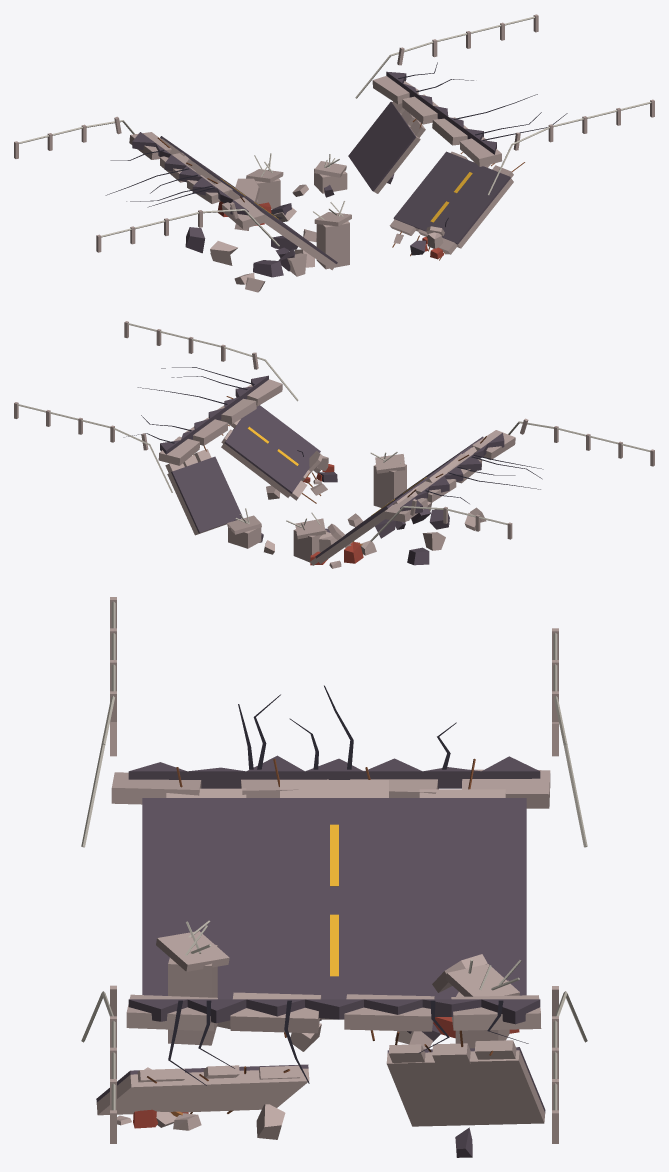
Rendered from kit.crossing-crash.lod2.glb.
3 views of the same model, one above another, from view 1: azimuth 30°, elevation 25°; view 2: azimuth 150°, elevation 25°; view 3: azimuth 270°, elevation 25° (orthographic). The views are drawn at different scales.
Bounding box in the file's own units: 36.2 × 7.17 × 15.01.
